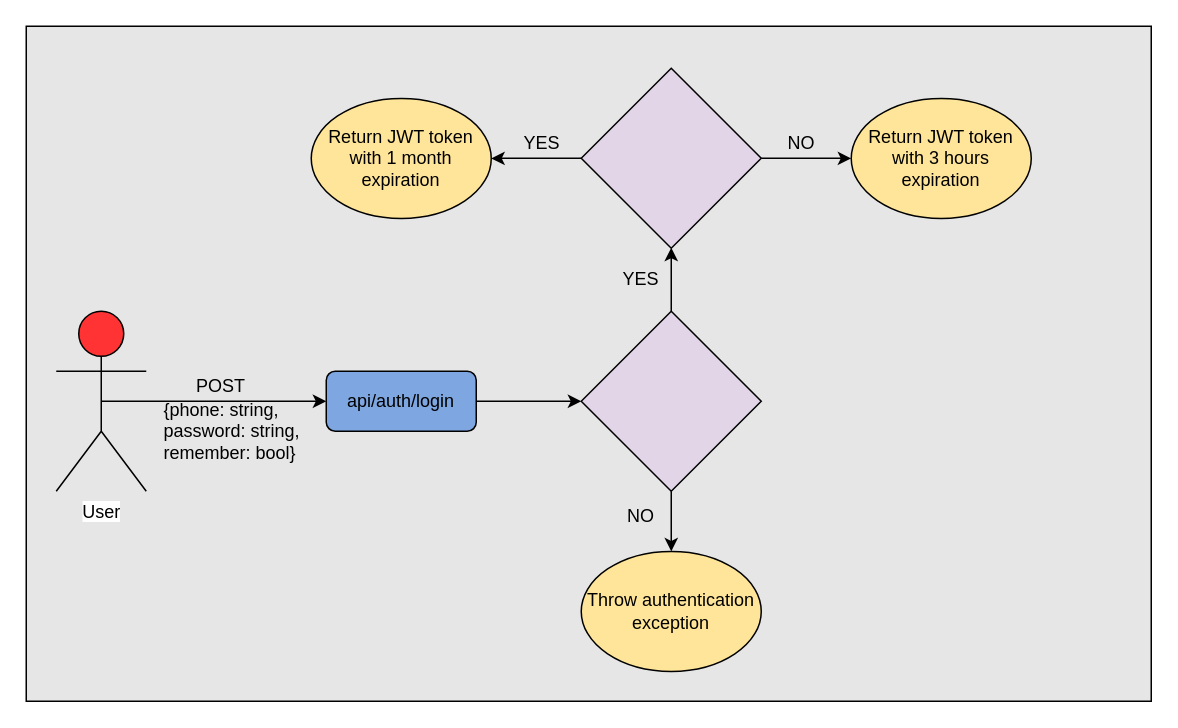
The diagram is 1178 pixels wide and 728 high, and some of its shapes have lost their labels. Each missing label, with the centre of its shape:
Remember?: the point at 670,157
Valid phone/ passwrd combination?: the point at 670,400
